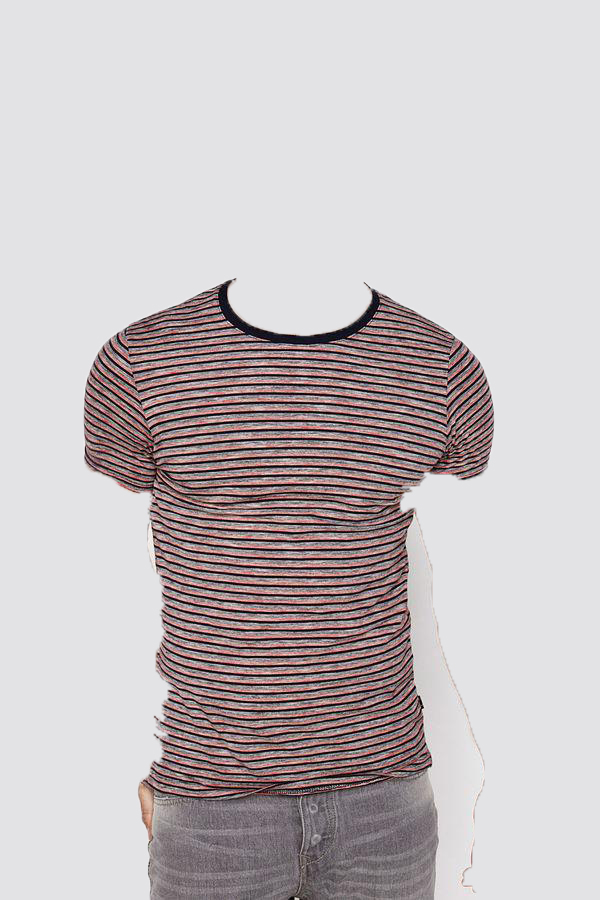teeshirt: (74, 271, 505, 796)
